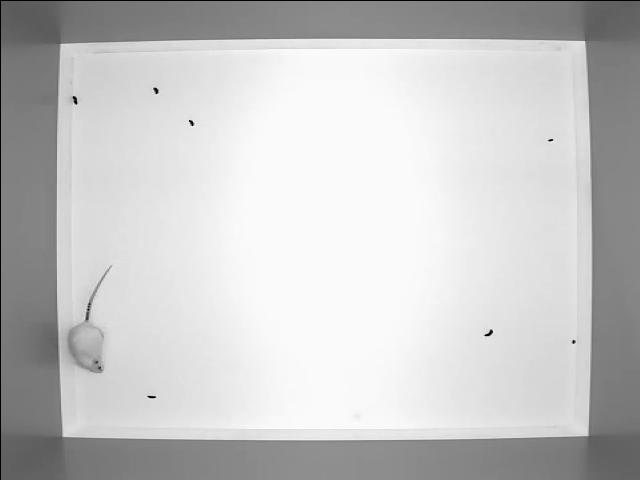Tikus: (62, 256, 116, 378)
